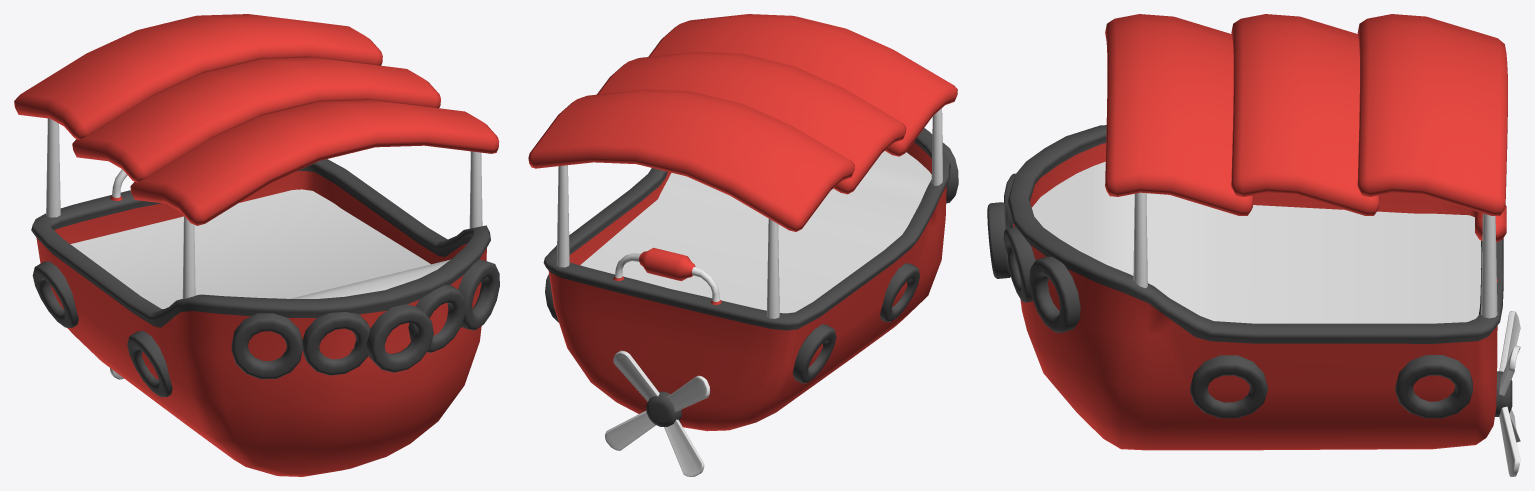
File: Sm_4carsShip.fbx
3 views of the same model, side by side, from view 1: azimuth 30°, elevation 25°; view 2: azimuth 150°, elevation 25°; view 3: azimuth 270°, elevation 25° (orthographic). The views are drawn at different scales.
Parts seen in each view (by area): view 1: boat_low, boat_low.002; view 2: boat_low, boat_low.002, boat_low.003; view 3: boat_low, boat_low.002, boat_low.003.
Boxes of the visible parts, left/top/right/bottom form: boat_low: left=31, top=159, right=499, bottom=476; boat_low.002: left=14, top=14, right=499, bottom=298; boat_low: left=543, top=128, right=958, bottom=431; boat_low.002: left=528, top=14, right=957, bottom=318; boat_low.003: left=605, top=350, right=710, bottom=476; boat_low: left=987, top=125, right=1506, bottom=450; boat_low.002: left=1105, top=14, right=1507, bottom=318; boat_low.003: left=1495, top=311, right=1520, bottom=476.
Size of the model in its own units: 255 by 295 by 351.
